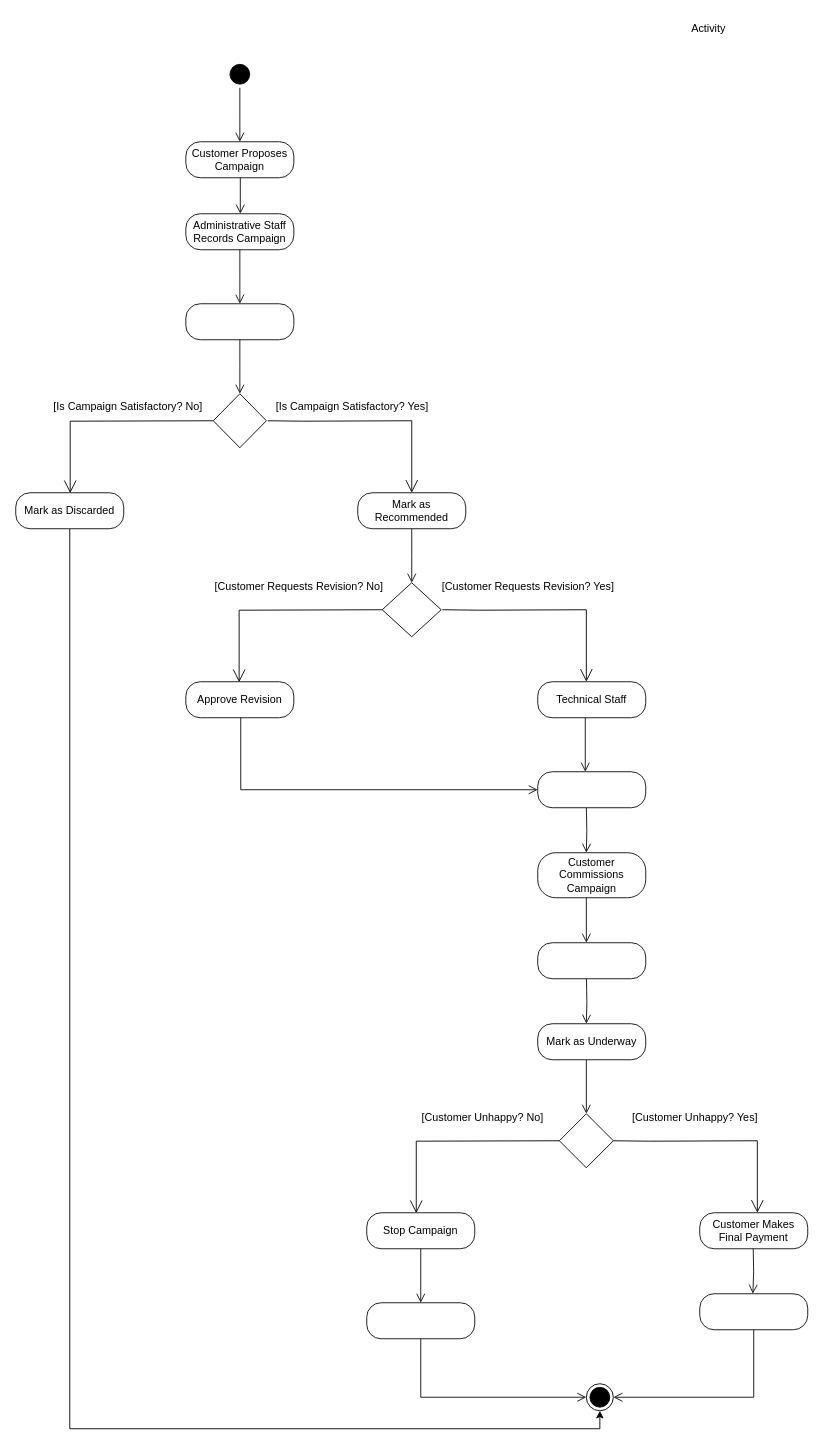
This 824x1452 diagram has some shape labels left out. The centre of each missing label's shape, as x and y in pixels:
"Mark as Completed" goes at (753,1311).
"Mark as Revised" goes at (591,789).
"Stopped" goes at (420,1320).
"Technical Staff Assess Campaign" goes at (239,321).
"Technical Staff Produce First Advertisement" goes at (591,960).
